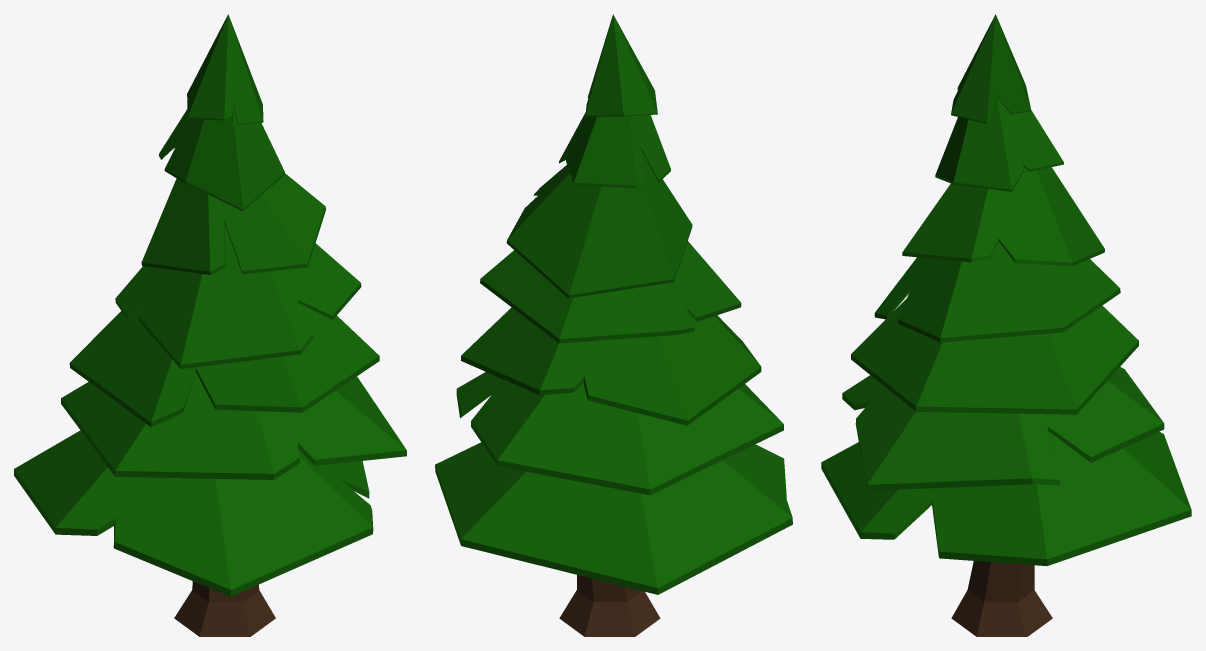
File: Baum.fbx
The picture shows the model from 3 angles, left to right: view 1: azimuth 30°, elevation 25°; view 2: azimuth 150°, elevation 25°; view 3: azimuth 270°, elevation 25°; orthographic projection.
Visible parts, largest first — view 1: Tree; view 2: Tree; view 3: Tree.
Part boxes in pixels (left/top/right/bottom): Tree: left=14, top=14, right=406, bottom=636; Tree: left=435, top=14, right=792, bottom=636; Tree: left=821, top=14, right=1191, bottom=636.
Size of the model in its own units: 277 by 485 by 269.
